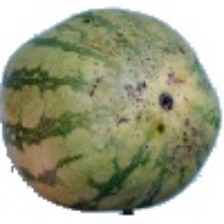watermelon: (19, 24, 168, 179)
